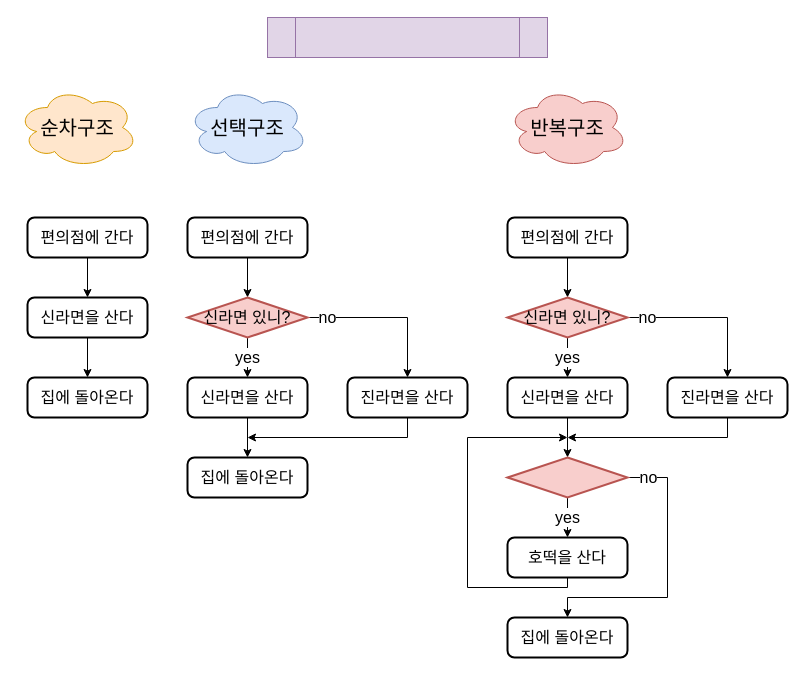
Image size: 806x676. Some labels were removed from this diagram. The centre of each missing label's shape, as x and y in pixels:
잔돈이 호떡 가격 보다 더 남았니?: [567,477]
표현 방법 3가지: [407,37]
